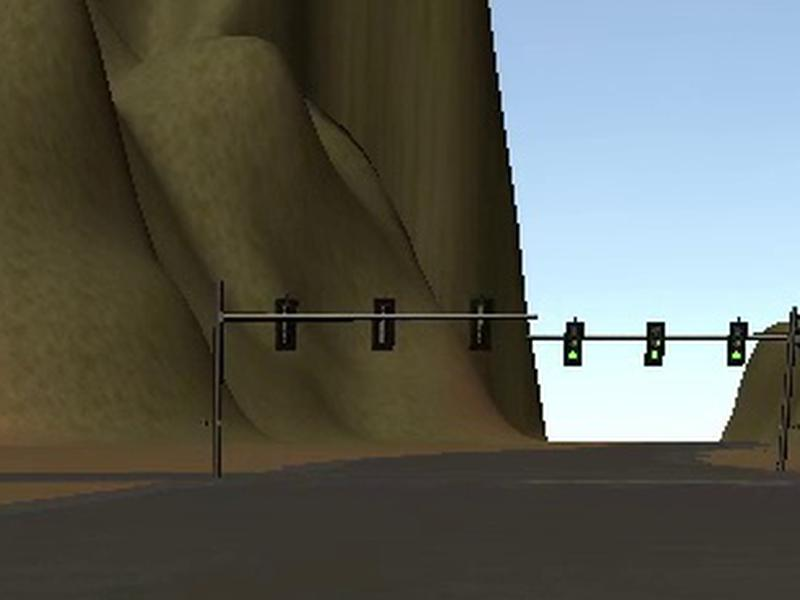Green: (642, 322, 666, 367), (726, 321, 749, 366), (562, 322, 584, 366)
